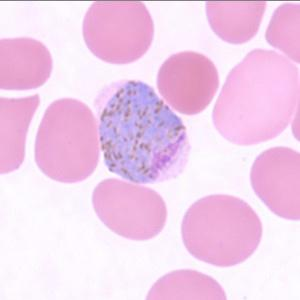Infected: (94, 79, 191, 182)
Uninfected: (212, 50, 298, 146), (182, 194, 263, 266), (34, 97, 100, 182), (91, 178, 167, 240), (81, 0, 153, 64), (156, 50, 220, 114), (251, 147, 300, 221), (0, 35, 53, 89), (206, 0, 267, 45)
